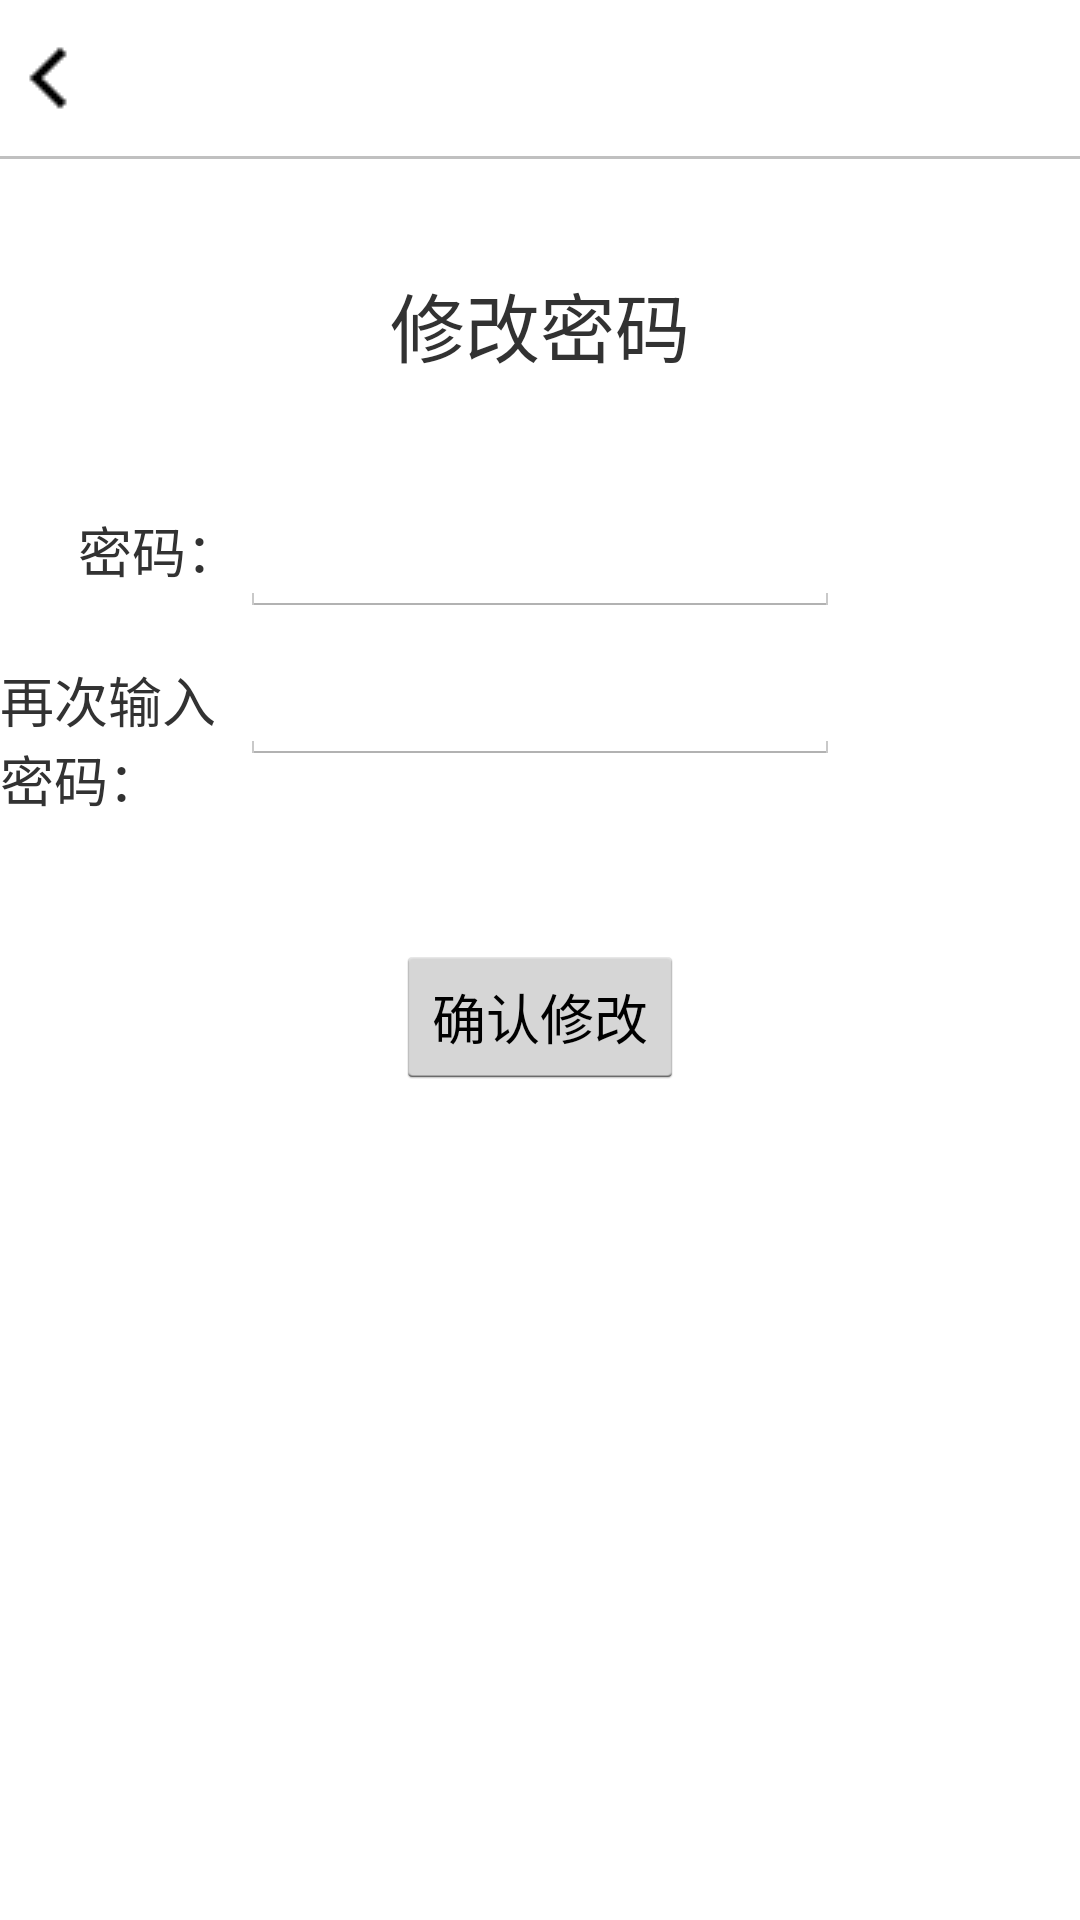

Named icons in this screenshot (1080w x 1920h) and their bounding boxes, box(x1, y1, x2, y2):
back: box(29, 47, 67, 109)
